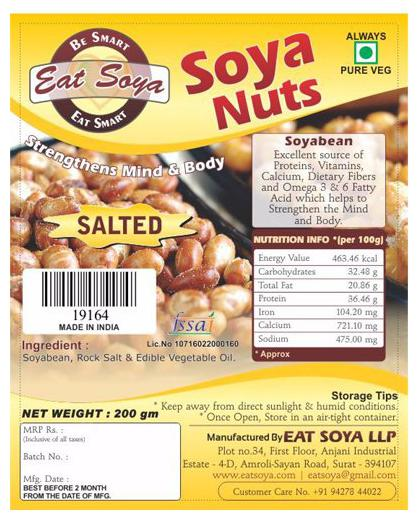fssai: (167, 310, 219, 337)
